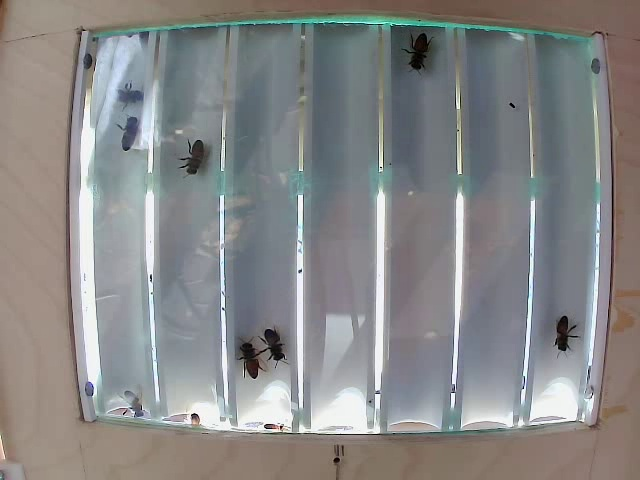bee: (107, 109, 155, 155), (255, 316, 293, 371), (227, 338, 261, 391), (402, 31, 433, 85), (545, 315, 580, 360), (104, 80, 148, 114), (185, 136, 221, 174)
